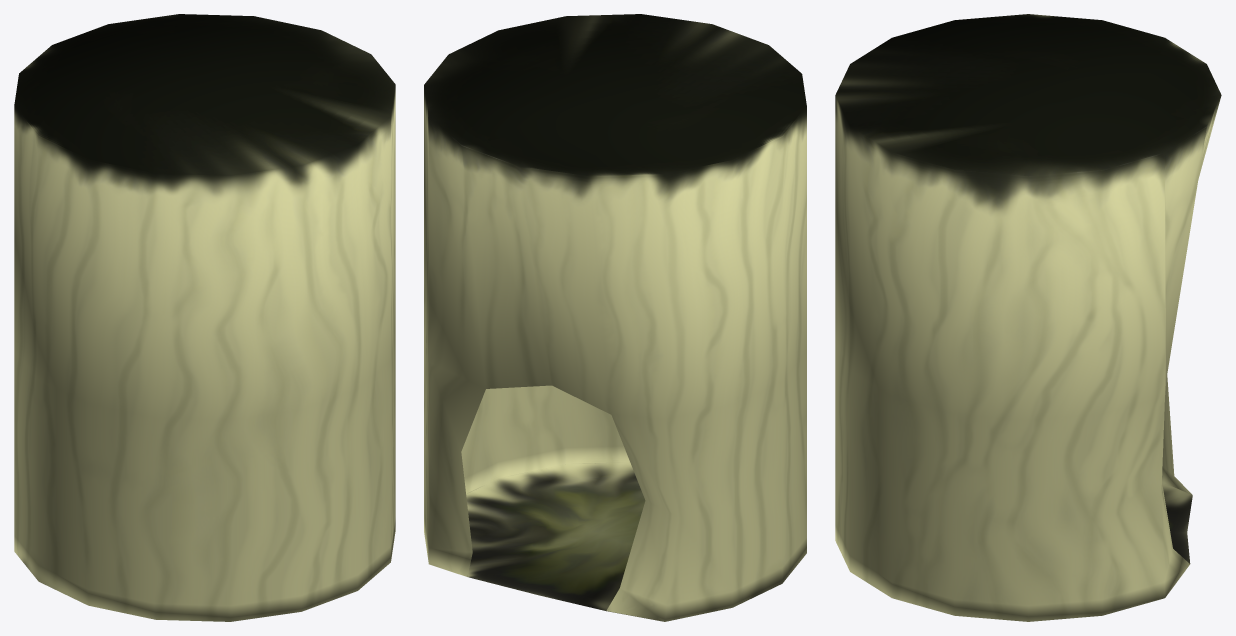
File: stem.fbx
3 renders of one model, left to right at view 1: azimuth 30°, elevation 25°; view 2: azimuth 150°, elevation 25°; view 3: azimuth 270°, elevation 25°, orthographic.
Visible parts, largest first — view 1: stem; view 2: stem; view 3: stem.
Boxes of the visible parts, x1,y1,x2,y2 form: stem: (14, 14, 395, 621); stem: (424, 14, 806, 621); stem: (835, 14, 1221, 621).
Size of the model in its own units: 4842 by 6205 by 4873.
Materials: 1 (1 with a texture image).
